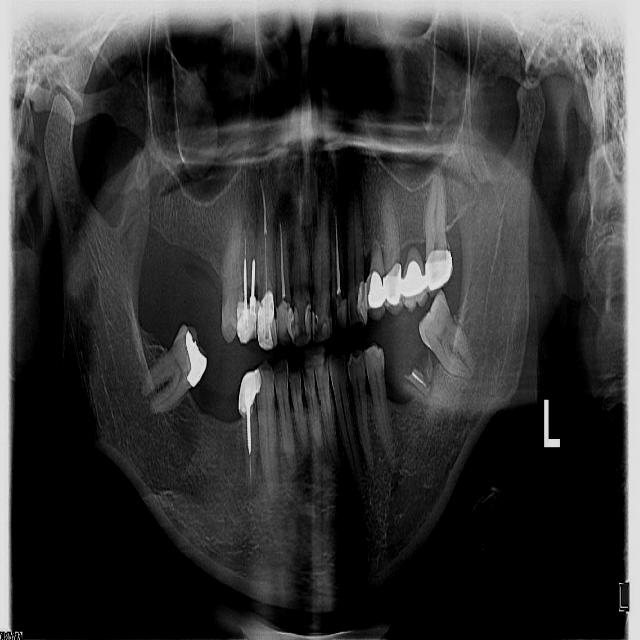Caries: (331, 297, 337, 332), (326, 294, 332, 322), (348, 295, 353, 322)
Crown: (401, 246, 427, 313), (425, 248, 453, 294), (363, 274, 386, 322), (382, 262, 403, 314)
Filling: (185, 327, 207, 387), (256, 291, 276, 347), (236, 300, 260, 343), (239, 372, 261, 416), (275, 303, 294, 346), (356, 280, 368, 325), (336, 294, 347, 329), (291, 303, 300, 344), (312, 308, 319, 340), (322, 315, 331, 339), (305, 304, 311, 339)
Missing teeth: (160, 244, 226, 338), (189, 364, 244, 423), (383, 344, 418, 406)
Root Canal Treatment: (335, 216, 341, 295), (280, 221, 286, 297), (260, 176, 266, 234), (242, 224, 248, 254), (249, 455, 251, 478)
Root Piece: (403, 367, 432, 396), (422, 350, 433, 384)
